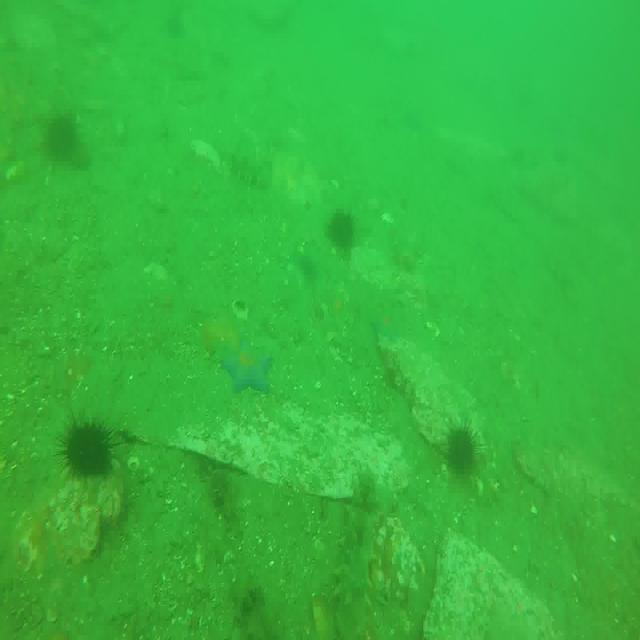echinus: (64, 417, 112, 474), (42, 114, 82, 162), (449, 421, 479, 472), (329, 208, 358, 258)
holothurian: (333, 469, 379, 640), (222, 139, 276, 189)
starfish: (224, 330, 272, 392)
